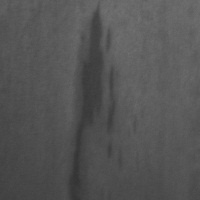inclusion: (70, 0, 123, 184)
